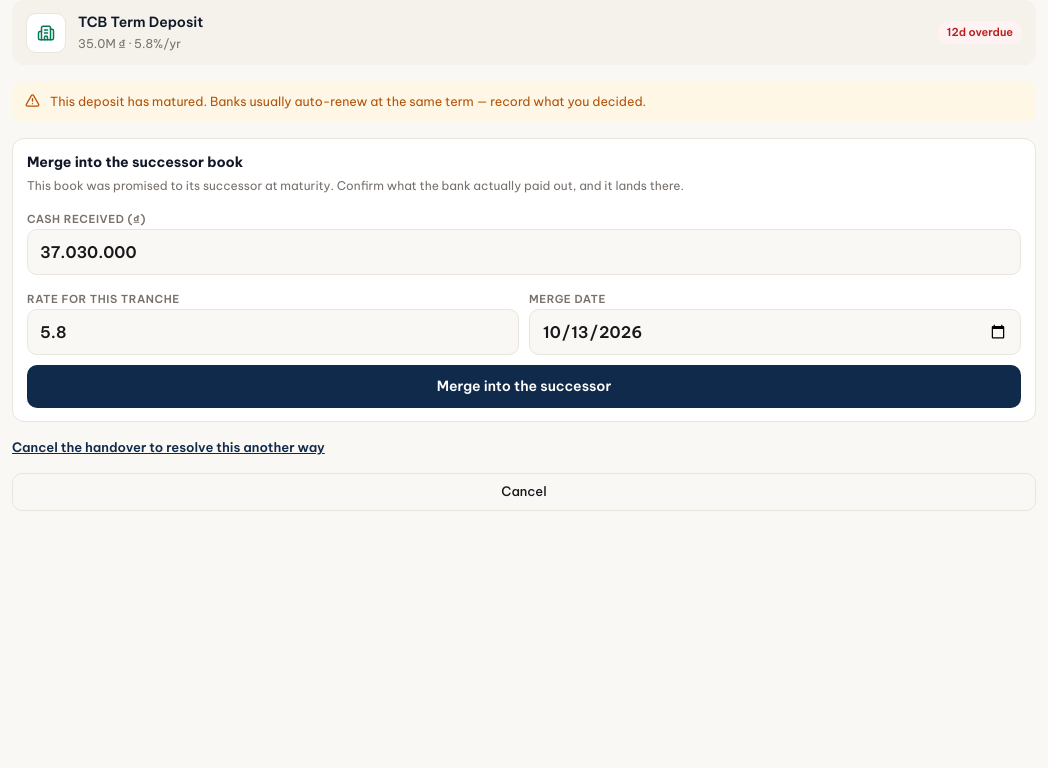
Scenario: MaturityResolveBody › surfaces a refusal from the merge rather than pretending it worked
Click the button with test id "merge-successor-submit" at (524, 386), box x1=27 y1=365 x2=1021 y2=408
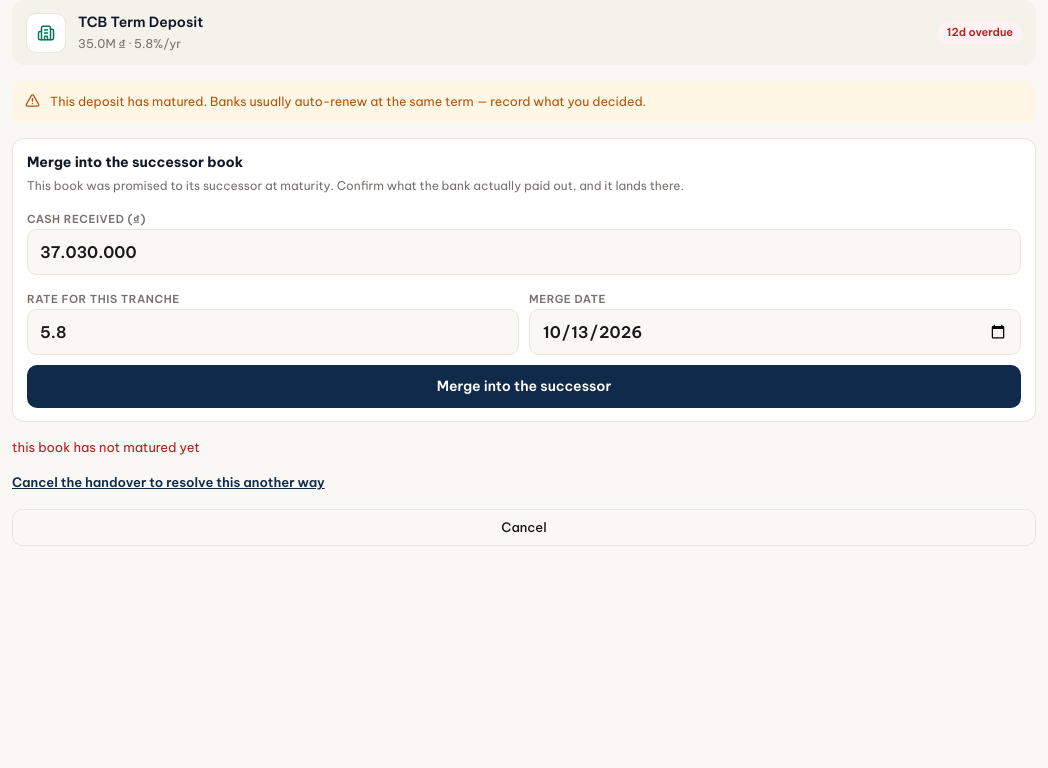
Expected: the text "this book has not matured yet" is shown, x1=12 y1=439 x2=200 y2=455
